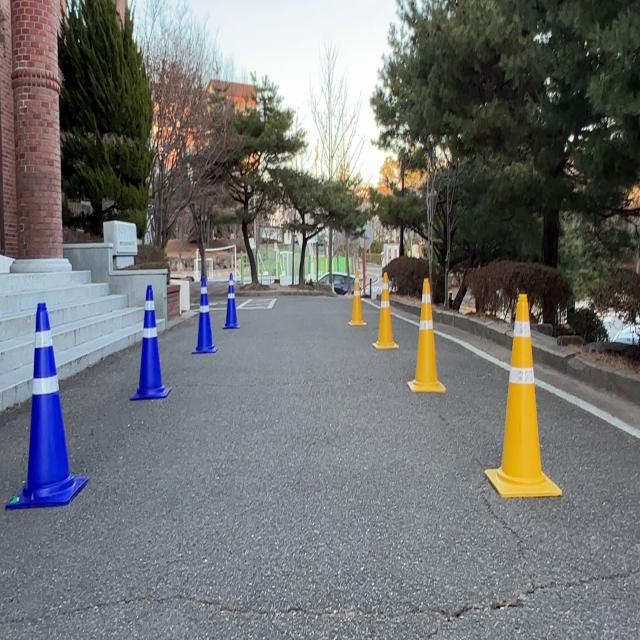cone: (2, 302, 90, 510), (485, 293, 565, 495), (129, 285, 173, 400), (406, 279, 446, 394), (190, 278, 218, 356), (372, 272, 399, 349), (346, 270, 365, 325), (223, 273, 241, 331)
